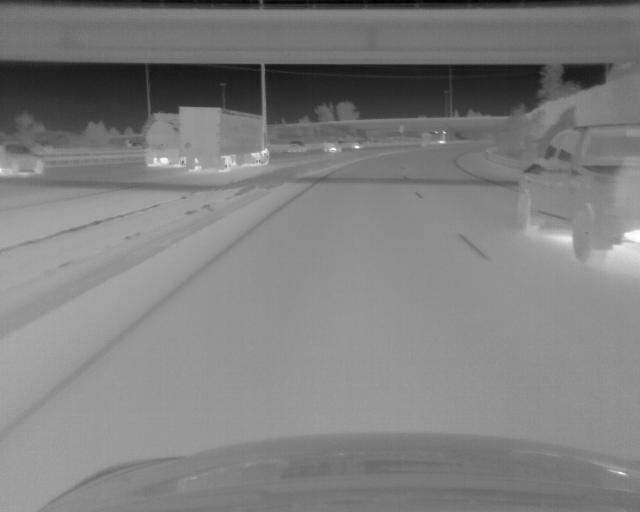car: (514, 124, 640, 264), (179, 106, 271, 173), (144, 111, 182, 167), (420, 132, 447, 146), (323, 140, 342, 153), (287, 141, 307, 152)
